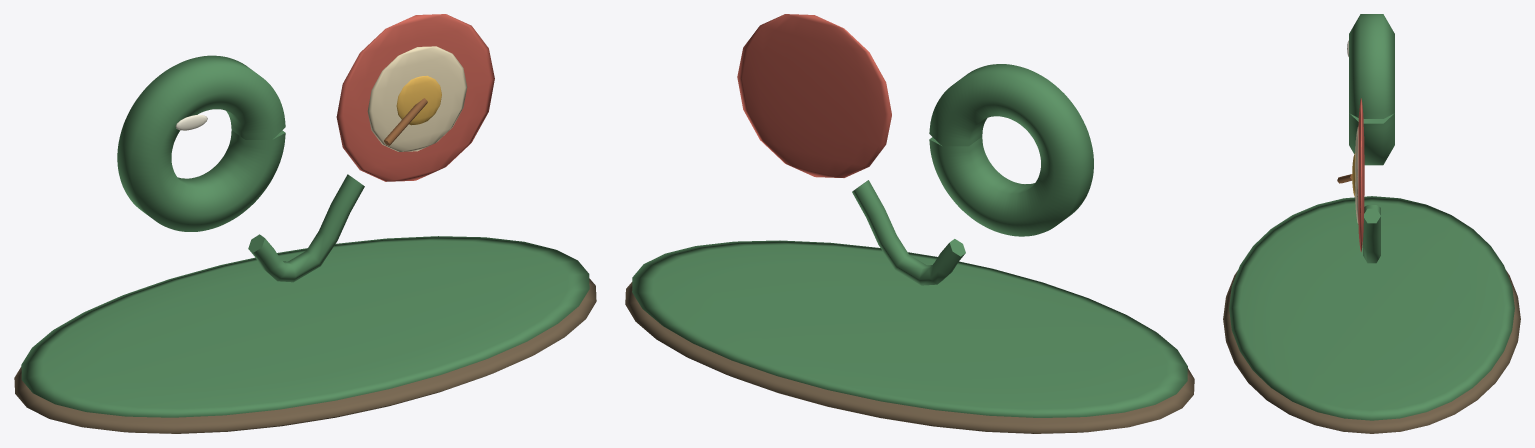
The model's file is complete-second-real-present.glb.
The picture shows the model from 3 angles, left to right: view 1: azimuth 30°, elevation 25°; view 2: azimuth 150°, elevation 25°; view 3: azimuth 270°, elevation 25°; orthographic projection. The views are drawn at different scales.
Visible parts, largest first — view 1: complete-second-real-present_surface_01, complete-second-real-present_surface_03, complete-second-real-present_surface_00, complete-second-real-present_surface_04, complete-second-real-present_surface_05; view 2: complete-second-real-present_surface_01, complete-second-real-present_surface_03, complete-second-real-present_surface_00; view 3: complete-second-real-present_surface_01, complete-second-real-present_surface_00, complete-second-real-present_surface_03, complete-second-real-present_surface_04.
Part boxes in pixels (x1,y1,x2,y2): complete-second-real-present_surface_01: [21, 55, 589, 417]; complete-second-real-present_surface_03: [336, 14, 494, 181]; complete-second-real-present_surface_00: [14, 278, 596, 433]; complete-second-real-present_surface_04: [367, 46, 467, 151]; complete-second-real-present_surface_05: [396, 75, 441, 125]; complete-second-real-present_surface_01: [632, 64, 1187, 417]; complete-second-real-present_surface_03: [737, 14, 891, 177]; complete-second-real-present_surface_00: [625, 282, 1194, 433]; complete-second-real-present_surface_01: [1229, 14, 1514, 420]; complete-second-real-present_surface_00: [1223, 270, 1520, 433]; complete-second-real-present_surface_03: [1358, 98, 1364, 251]; complete-second-real-present_surface_04: [1355, 127, 1358, 223].
Bounding box in the file's own units: 4.56 × 2.51 × 2.5.
